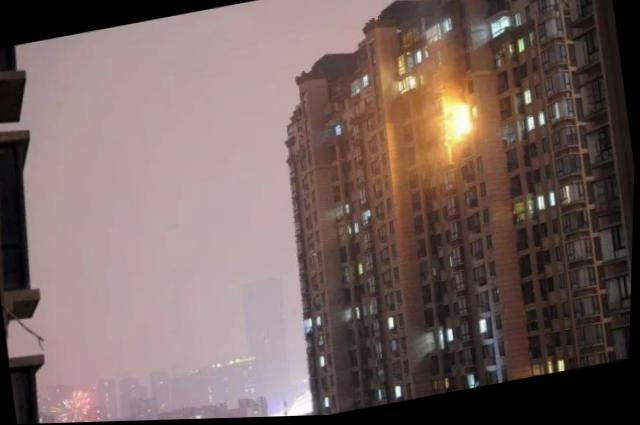fire: (436, 91, 477, 145)
